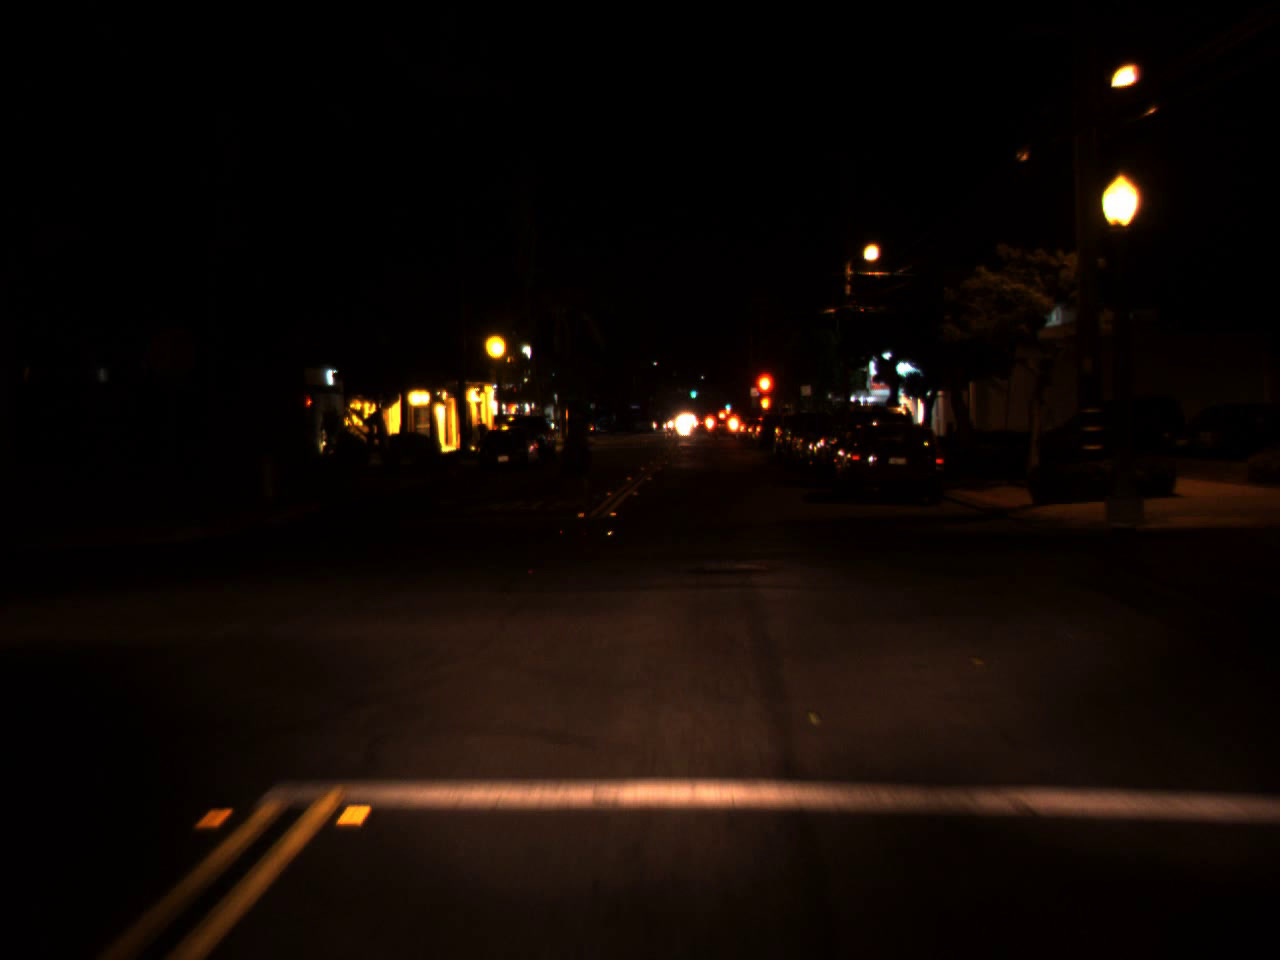go: (688, 383, 697, 398), (722, 396, 731, 411)
stop: (751, 369, 776, 423)
